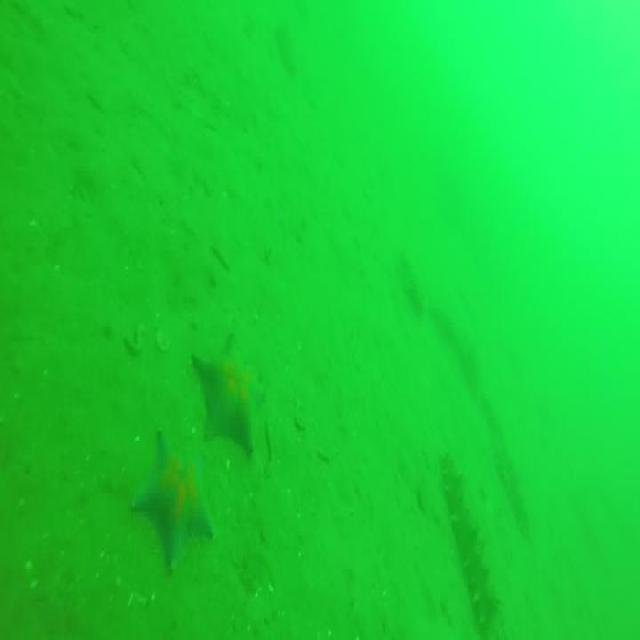holothurian: (434, 305, 538, 540), (441, 455, 504, 640)
scallop: (156, 327, 172, 353)
starfish: (129, 430, 214, 567), (187, 329, 269, 458)
